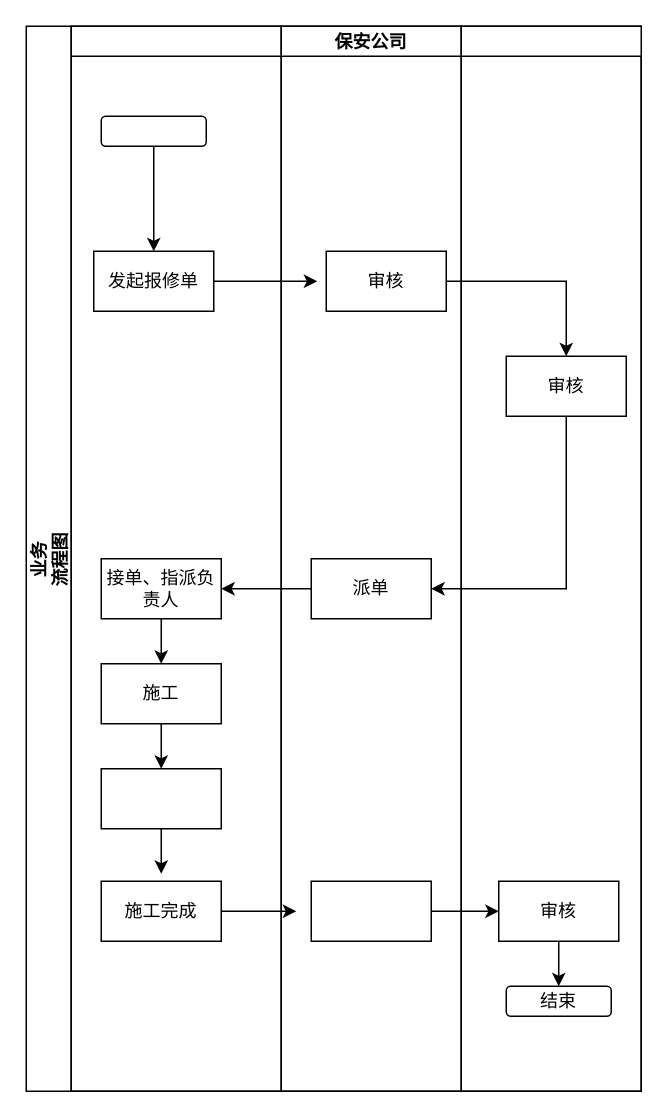
This 668x1118 diagram has some shape labels left out. The shapes that lost their labels are listed below. From the top down, each one's box as (x1, y1, x2, y2) in pixels, then its label:
(100, 115, 206, 146): 开始
(70, 25, 281, 1091): 施工单位
(460, 25, 641, 1091): 支队
(100, 767, 221, 829): 上传施工进度
(310, 880, 431, 941): 监理评估工程工作量和质量
